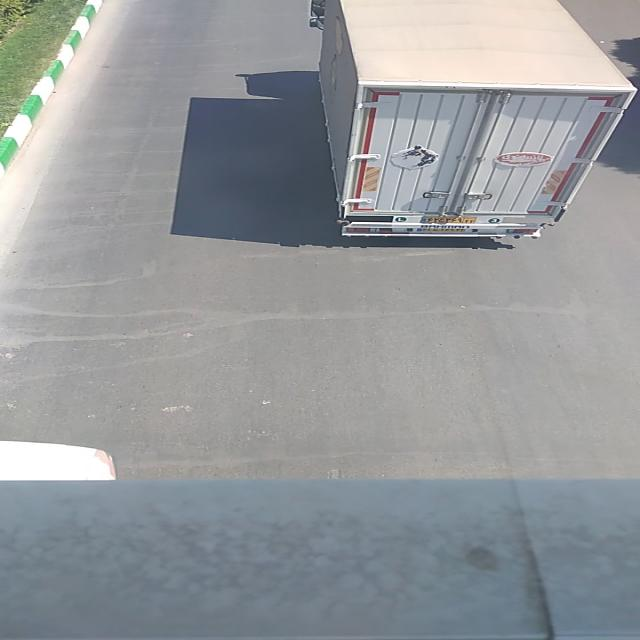truck: (308, 0, 639, 238)
